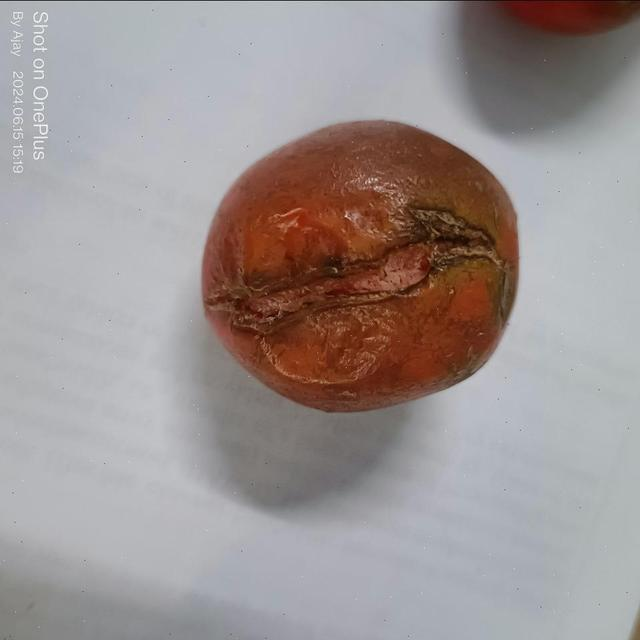Cracking Fruit: (69, 84, 219, 304)
